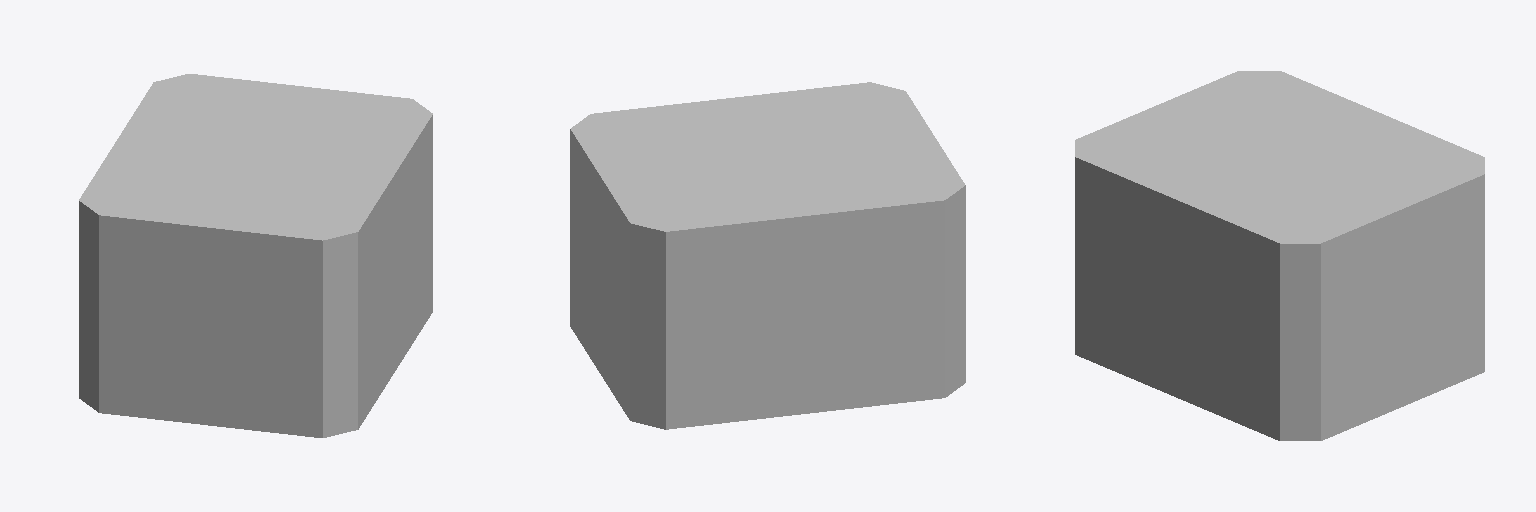
File: Pillar_Base_Corner.obj
The picture shows the model from 3 angles: view 1: azimuth 30°, elevation 25°; view 2: azimuth 150°, elevation 25°; view 3: azimuth 270°, elevation 25°; orthographic projection.
Visible parts, largest first — view 1: object1; view 2: object1; view 3: object1.
Boxes of the visible parts, x1,y1,x2,y2 form: object1: [79, 74, 432, 437]; object1: [570, 82, 965, 429]; object1: [1075, 71, 1484, 440].
Size of the model in its own units: 0.75 by 0.4 by 0.75.